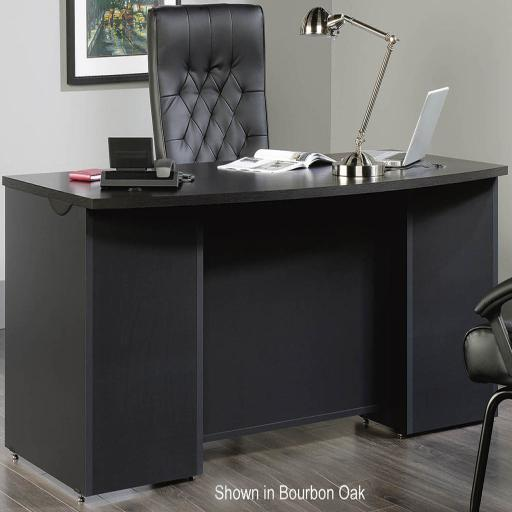chair: (146, 4, 270, 166), (462, 277, 512, 512)
desk: (2, 150, 508, 502)
wall: (0, 0, 333, 331), (331, 0, 512, 285)
